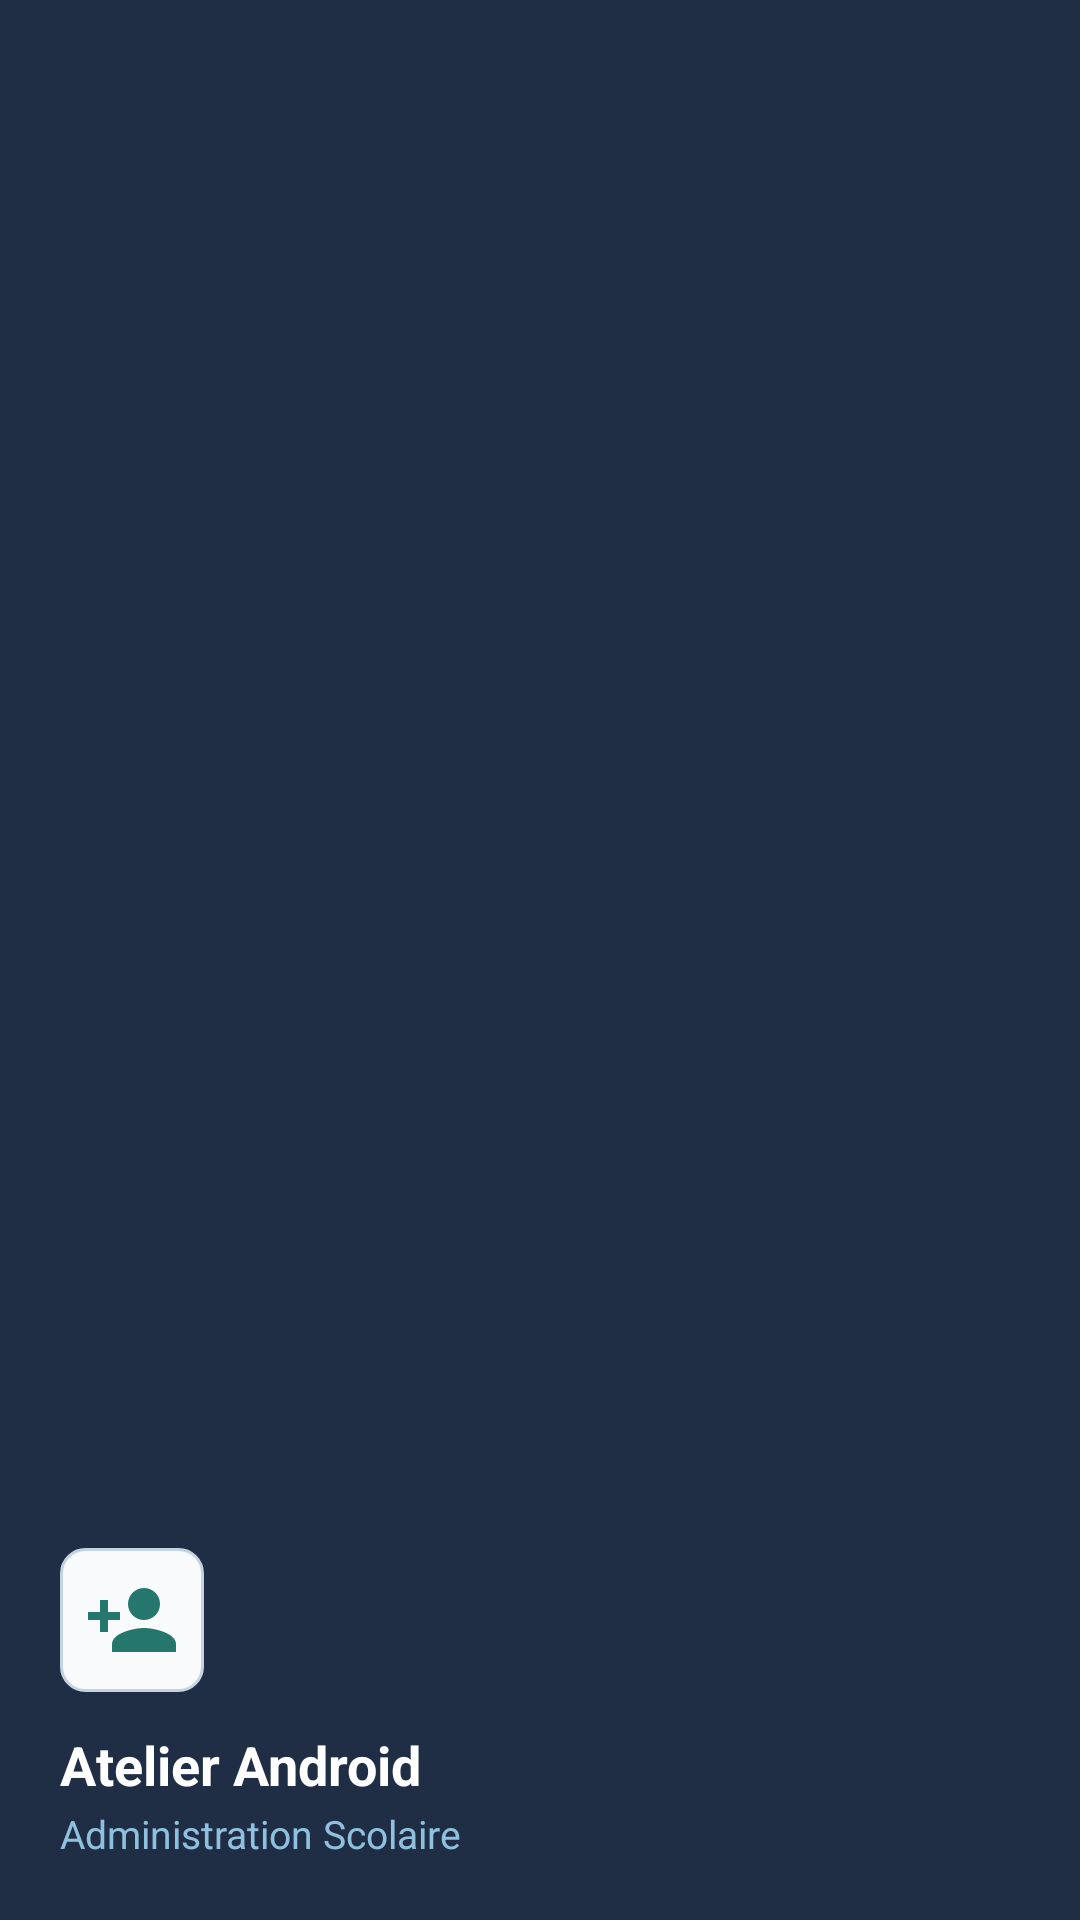

Icon click points for this 1080 x 1920 phone screenshot, format point (x, y):
inscription: point (132, 1620)
